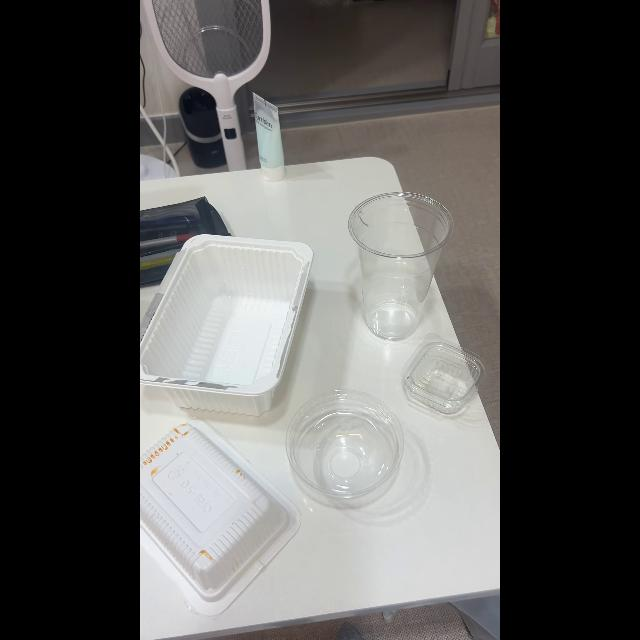clean: (140, 239, 306, 408), (294, 398, 408, 507), (354, 195, 438, 337), (416, 342, 484, 424)
dirty: (141, 417, 289, 601)
